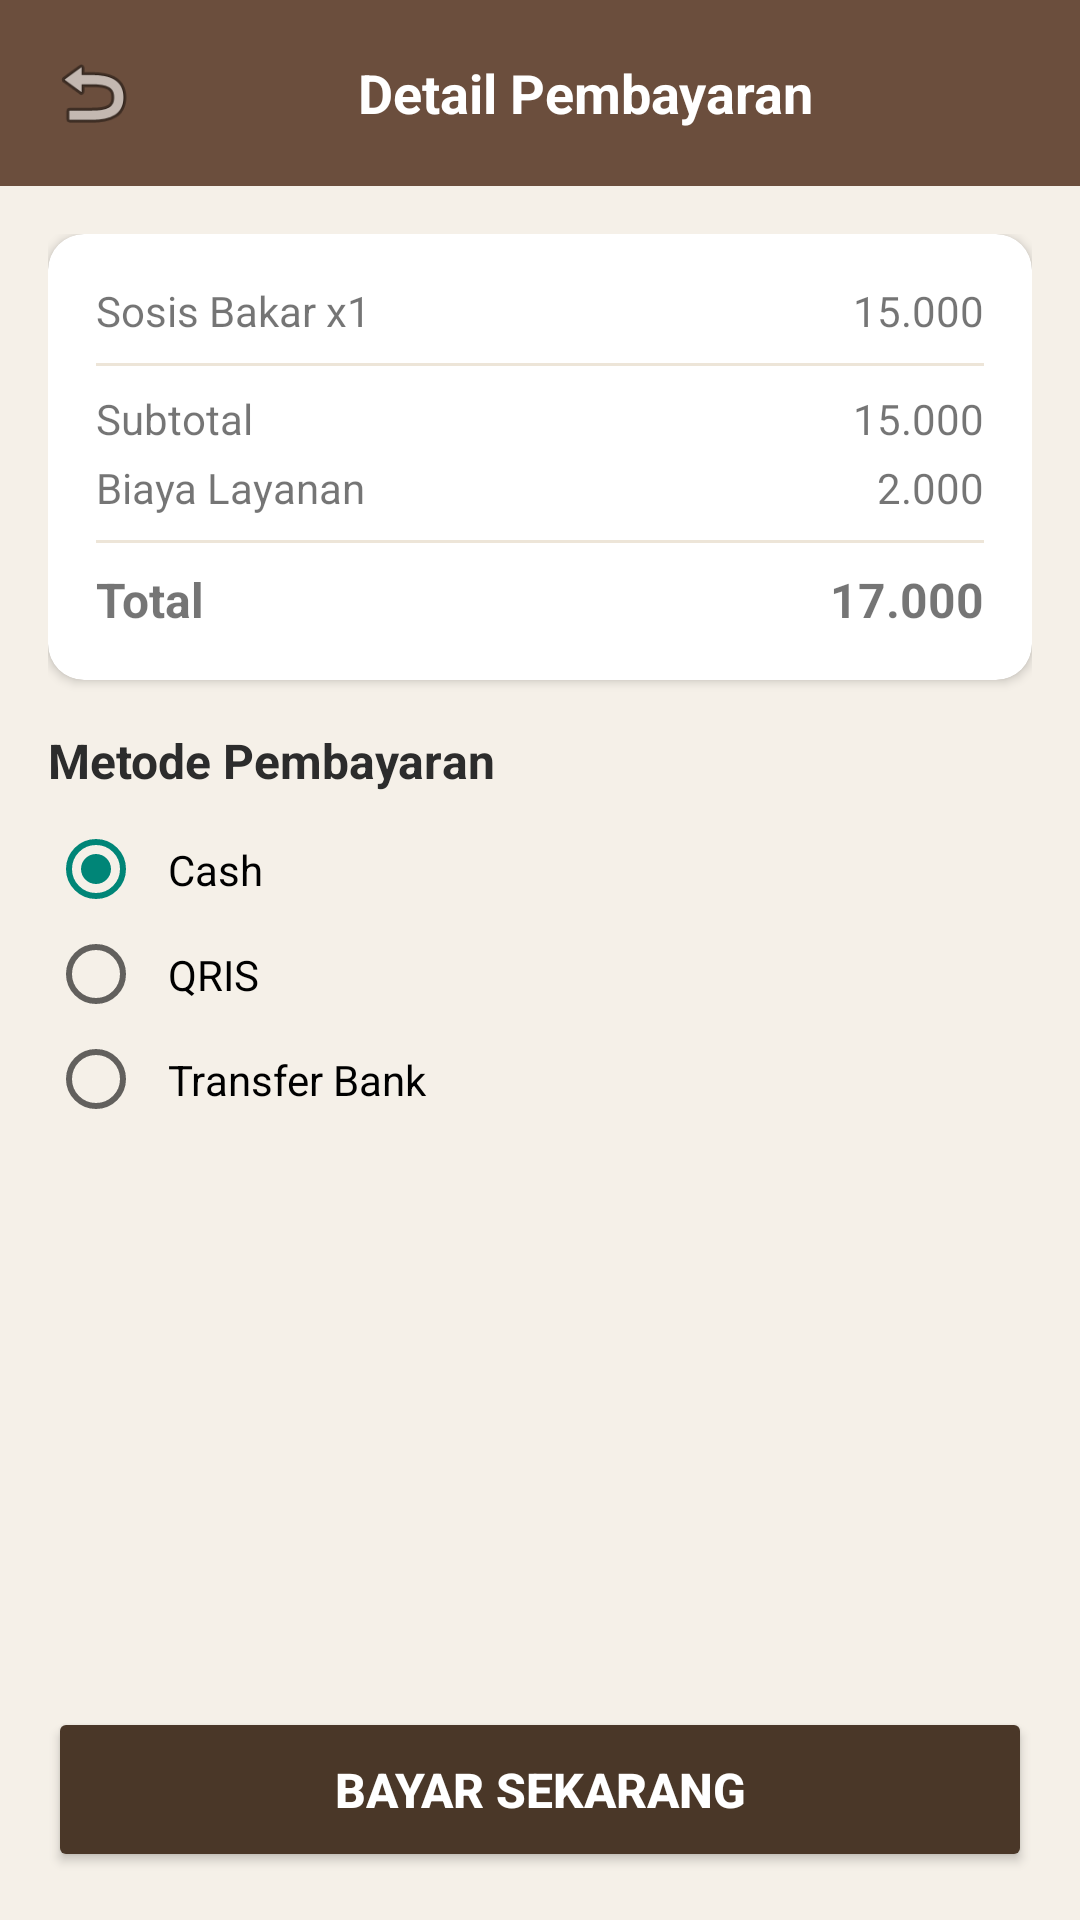

Locate icon controls on the screen. Image size 1080px x 1920px, boxes as (x1, y1, x2, y2).
Back: (62, 65, 126, 123)
